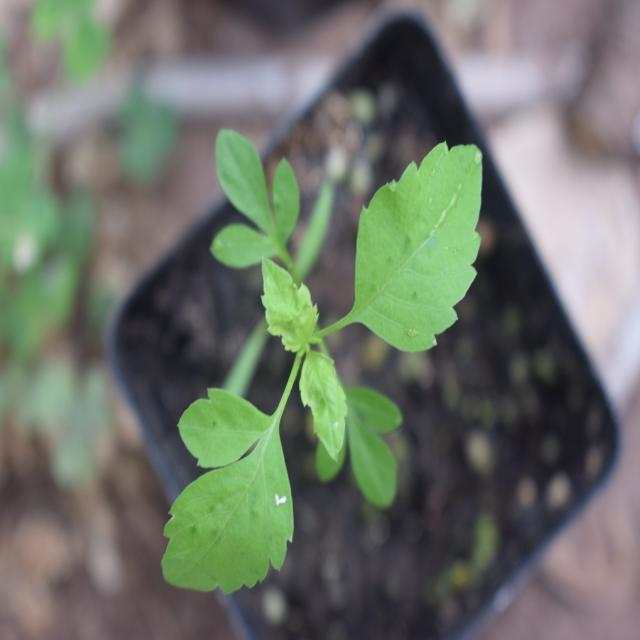Bidens pilosa: (141, 113, 491, 616)
